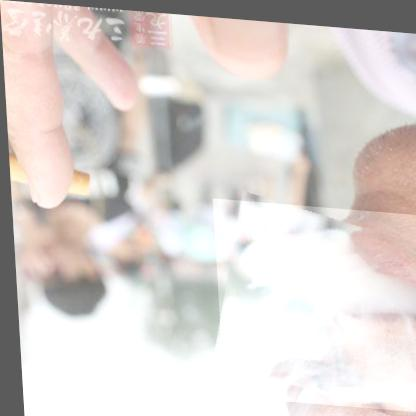smoke: (210, 195, 416, 407)
